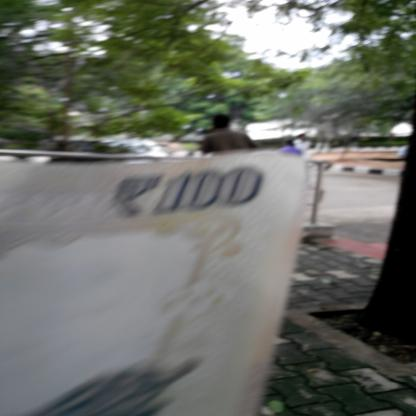Old100Back: (0, 150, 308, 415)
